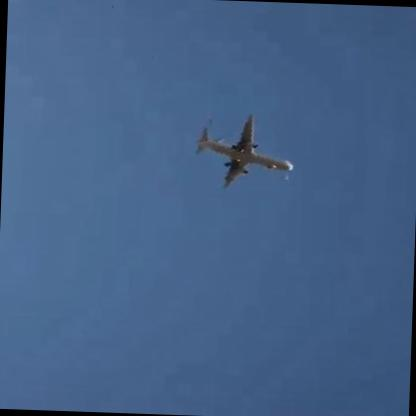plane: (191, 109, 298, 194)
